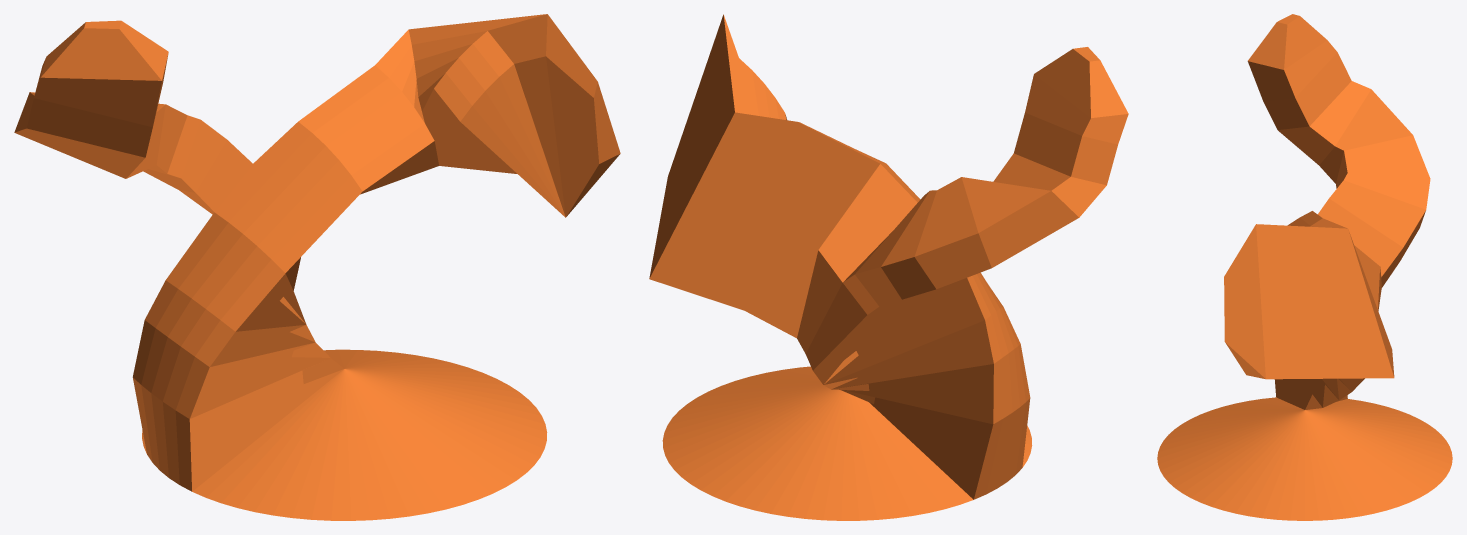
Rendered from watchstand.fbx.
3 views of the same model, side by side, from view 1: azimuth 30°, elevation 25°; view 2: azimuth 150°, elevation 25°; view 3: azimuth 270°, elevation 25° (orthographic). The views are drawn at different scales.
Visible parts, largest first — view 1: watchbase; view 2: watchbase; view 3: watchbase.
Part boxes in pixels (x1,y1,x2,y2): watchbase: (14,14,620,520); watchbase: (649,14,1128,520); watchbase: (1157,14,1452,520).
Size of the model in its own units: 1159 by 1005 by 768.
